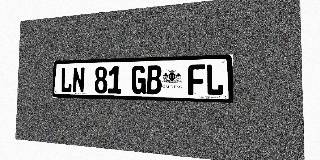1: (108, 66, 122, 94)
8: (94, 66, 108, 93)
B: (146, 65, 162, 94)
F: (188, 64, 205, 95)
G: (131, 65, 146, 94)
L: (206, 64, 224, 96), (60, 67, 72, 93)
N: (72, 67, 85, 93)
